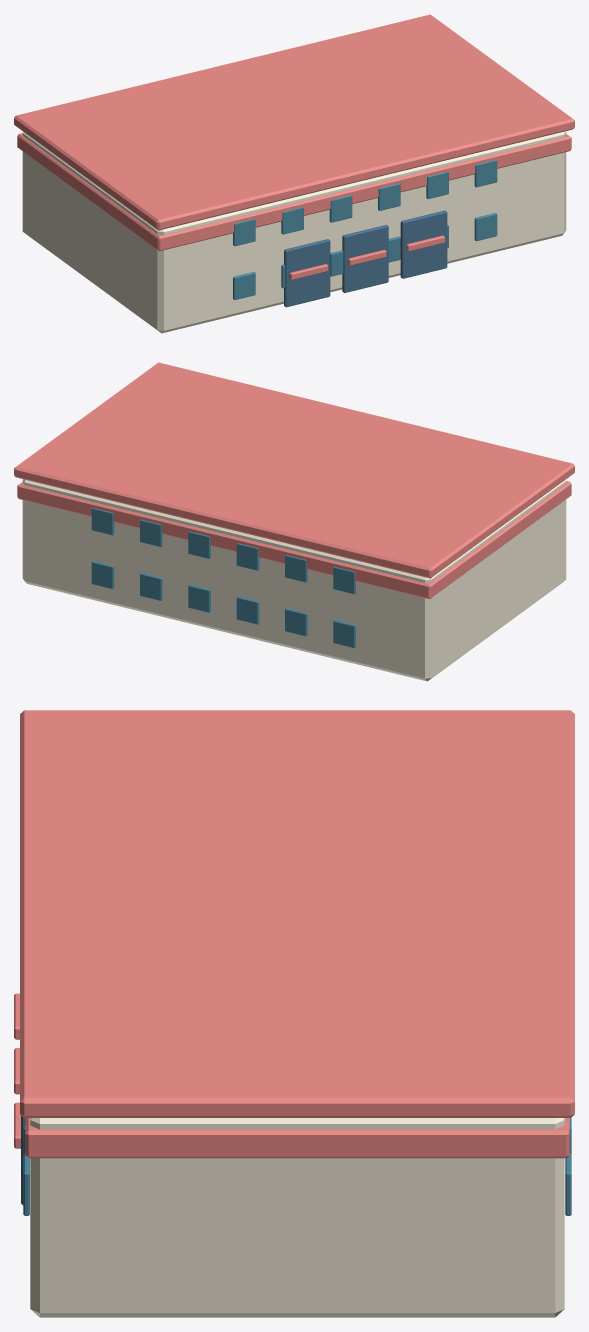
The model's file is CIV_FIRE_3x2_002.glb.
3 renders of one model, top to bottom at view 1: azimuth 30°, elevation 25°; view 2: azimuth 150°, elevation 25°; view 3: azimuth 270°, elevation 25°, orthographic. The views are drawn at different scales.
Visible parts, largest first — view 1: CIV_FIRE_3x2_002_Visual; view 2: CIV_FIRE_3x2_002_Visual; view 3: CIV_FIRE_3x2_002_Visual.
Part boxes in pixels (x1=…): CIV_FIRE_3x2_002_Visual: x1=14, y1=14, x2=574, y2=333; CIV_FIRE_3x2_002_Visual: x1=14, y1=362, x2=574, y2=681; CIV_FIRE_3x2_002_Visual: x1=14, y1=710, x2=574, y2=1317.
Size of what is drawn, in the model's own units: 5.37 by 1.45 by 3.25.
